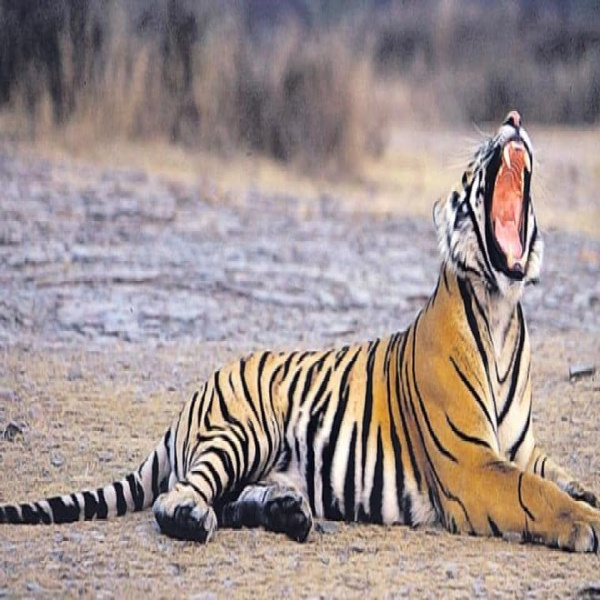Tiger: (1, 103, 600, 556)
